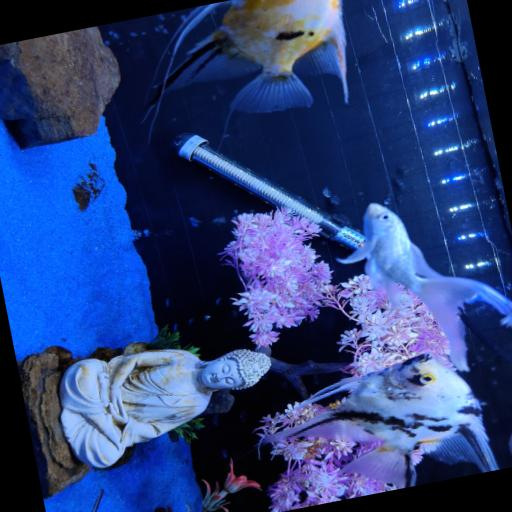Fish: (259, 354, 497, 488), (337, 203, 511, 371), (146, 0, 347, 115)
